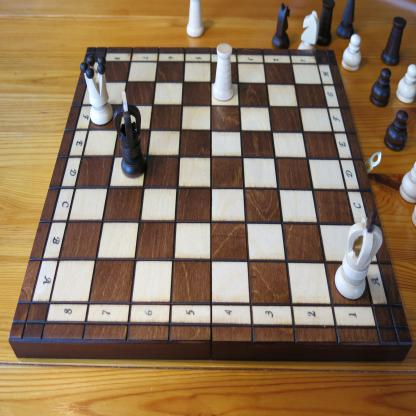black-bishop: (336, 0, 355, 41)
black-king: (113, 90, 147, 179)
black-knight: (271, 3, 290, 50)
black-pawn: (383, 109, 409, 153), (368, 68, 392, 109)
black-rook: (380, 15, 408, 67), (318, 0, 336, 47)
white-king: (334, 208, 384, 300)
white-knight: (298, 11, 320, 51)
white-pawn: (267, 38, 288, 81), (341, 33, 362, 73), (395, 64, 415, 106), (398, 160, 416, 206)
white-queen: (79, 54, 114, 126)
white-rook: (212, 42, 234, 102), (186, 0, 205, 39)
